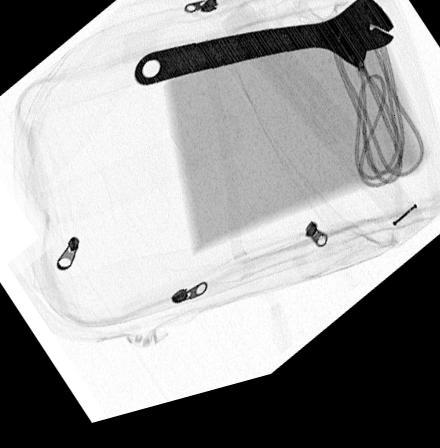Wrench: (132, 14, 397, 93)
